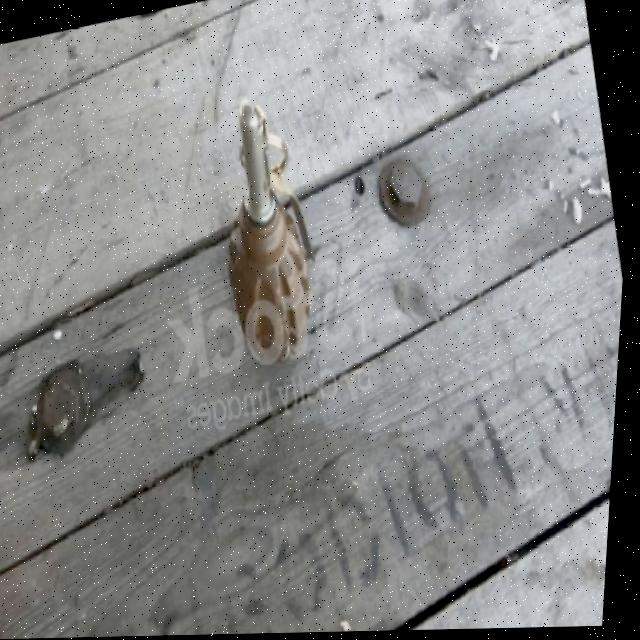grenade: (195, 82, 345, 391)
